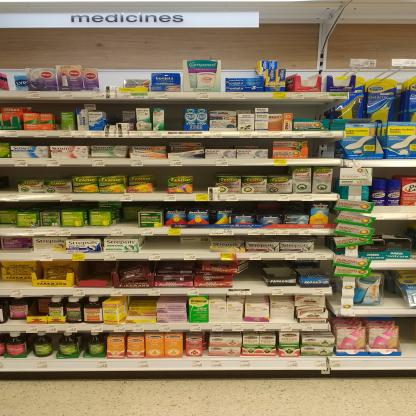Void: (166, 103, 186, 131), (294, 103, 329, 117), (24, 168, 64, 179), (402, 320, 413, 357), (196, 168, 212, 193), (147, 236, 176, 249), (1, 170, 15, 194), (238, 276, 264, 286), (154, 168, 166, 189)
